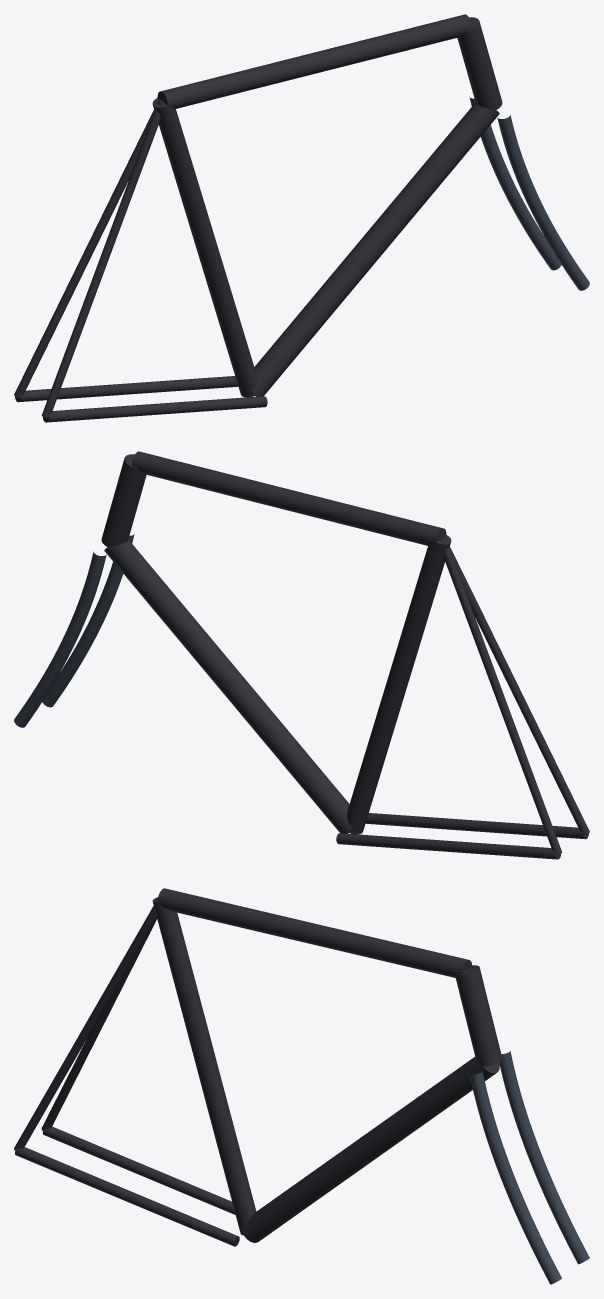
The model's file is state-black-label-v3-58.glb.
3 views of the same model, one above another, from view 1: azimuth 30°, elevation 25°; view 2: azimuth 150°, elevation 25°; view 3: azimuth 330°, elevation 25° (orthographic).
Visible parts, largest first — view 1: paint_down, paint_top, paint_seat, paint_seatstay_0.045, paint_seatstay_-0.045, fork_0.045, paint_chainstay_0.045, paint_chainstay_-0.045, paint_head, fork_-0.045; view 2: paint_down, paint_top, paint_seat, paint_seatstay_-0.045, paint_seatstay_0.045, fork_-0.045, paint_chainstay_-0.045, paint_chainstay_0.045, paint_head, fork_0.045; view 3: paint_down, paint_seat, paint_top, fork_0.045, fork_-0.045, paint_chainstay_0.045, paint_head, paint_seatstay_0.045, paint_chainstay_-0.045, paint_seatstay_-0.045.
Boxes of the visible parts, x1,y1,x2,y2 form: paint_down: [251, 102, 499, 396]; paint_top: [157, 14, 472, 108]; paint_seat: [152, 98, 256, 397]; paint_seatstay_0.045: [41, 100, 164, 418]; paint_seatstay_-0.045: [14, 99, 162, 398]; fork_0.045: [497, 114, 589, 290]; paint_chainstay_0.045: [42, 396, 267, 422]; paint_chainstay_-0.045: [15, 376, 238, 402]; paint_head: [457, 17, 502, 109]; fork_-0.045: [469, 97, 561, 270]; paint_down: [104, 539, 352, 833]; paint_top: [131, 451, 446, 545]; paint_seat: [347, 535, 451, 834]; paint_seatstay_-0.045: [439, 537, 562, 855]; paint_seatstay_0.045: [441, 536, 589, 835]; fork_-0.045: [14, 551, 106, 727]; paint_chainstay_-0.045: [336, 833, 561, 859]; paint_chainstay_0.045: [365, 813, 588, 839]; paint_head: [101, 454, 146, 546]; fork_0.045: [42, 534, 134, 707]; paint_down: [241, 1057, 499, 1242]; paint_seat: [152, 897, 256, 1235]; paint_top: [157, 888, 472, 977]; fork_0.045: [469, 1071, 561, 1284]; fork_-0.045: [499, 1051, 589, 1264]; paint_chainstay_0.045: [15, 1147, 239, 1246]; paint_head: [455, 965, 502, 1066]; paint_seatstay_0.045: [14, 899, 157, 1150]; paint_chainstay_-0.045: [43, 1126, 235, 1214]; paint_seatstay_-0.045: [41, 917, 156, 1130].
Bounding box in the file's own units: 1.02 × 0.5935 × 0.112.
